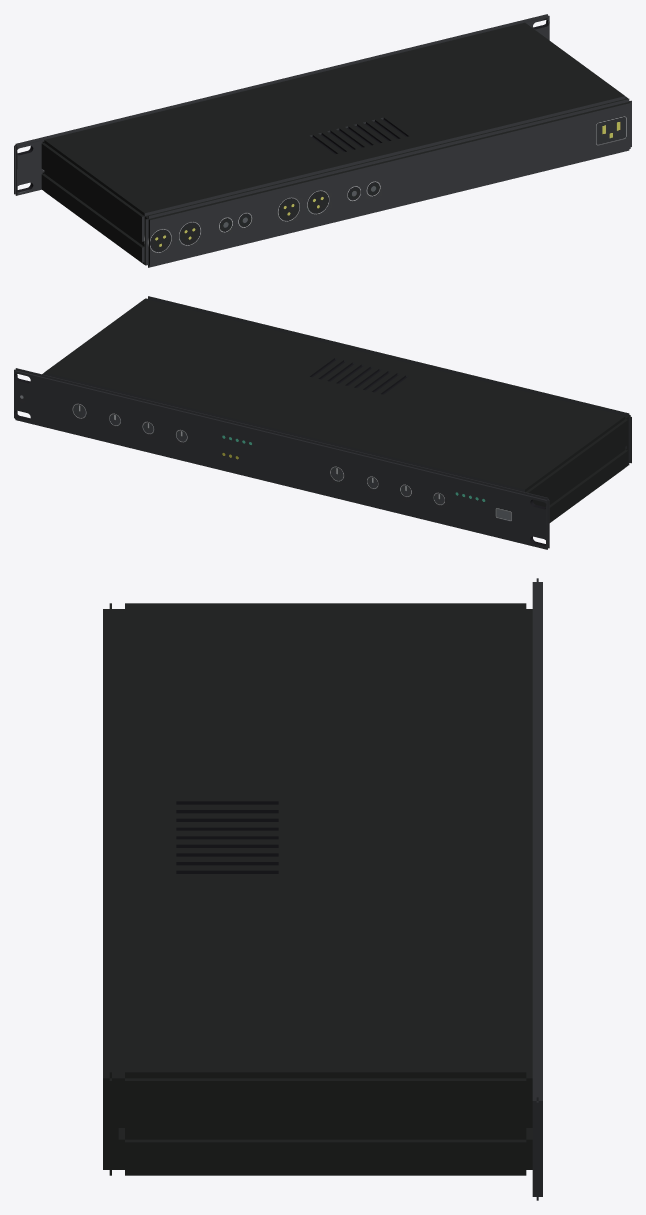
Rendered from dbx-166xs.glb.
The picture shows the model from 3 angles, top to bottom: view 1: azimuth 30°, elevation 25°; view 2: azimuth 150°, elevation 25°; view 3: azimuth 270°, elevation 25°; orthographic projection. The views are drawn at different scales.
Parts seen in each view (by area): view 1: dbx-166xs-body; view 2: dbx-166xs-body; view 3: dbx-166xs-body.
Boxes of the visible parts, bbox=[...] form: dbx-166xs-body: bbox=[14, 14, 631, 267]; dbx-166xs-body: bbox=[14, 296, 631, 549]; dbx-166xs-body: bbox=[103, 578, 542, 1200].
Bounding box in the file's own units: 0.482 × 0.0445 × 0.1715.
1 material, 1 textured.
